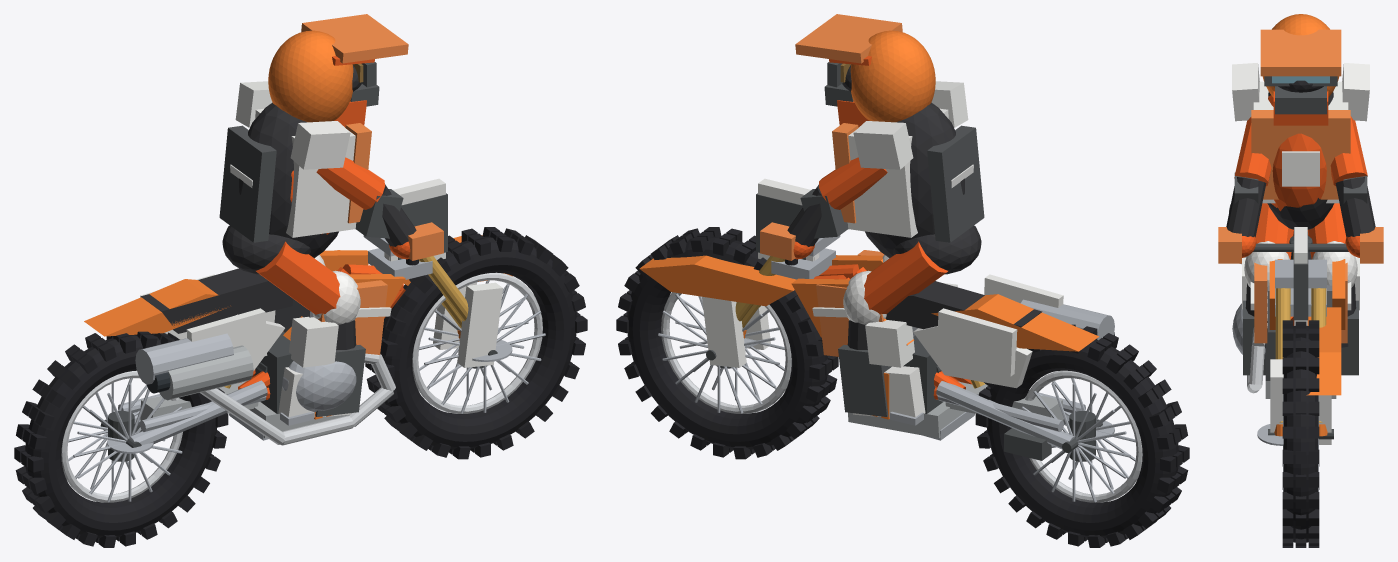
Rendered from dirt_bike_rider_arcade_v4.glb.
3 views of the same model, side by side, from view 1: azimuth 30°, elevation 25°; view 2: azimuth 150°, elevation 25°; view 3: azimuth 270°, elevation 25° (orthographic). The views are drawn at different scales.
Parts seen in each view (by area): view 1: FrontTire, RearTire, HelmetShell, V4_BackProtector, Seat, RiderTorso, V4_ChestProtector, RearFender, RiderLThigh, V4_HelmetPeak, FrontRim, V4_ForkGuard_R (+32 smaller); view 2: RearTire, FrontTire, HelmetShell, FrontFender, V4_BackProtector, RiderTorso, V4_RearNumberPlate_L, V4_ChestProtector, RearFender, RiderRThigh, V4_HelmetPeak, V4_BootShinPlate_-1 (+30 smaller); view 3: V4_HelmetPeak, V4_ChestCenter, FrontTire, RiderJersey, FrontFender, RiderRForearm, RiderLForearm, V4_ShoulderGuard_1, V4_ShoulderGuard_-1, ChestLogoPatch, V4_ChinVent, RiderTorso (+38 smaller).
Boxes of the visible parts, x1,y1,x2,y2 form: FrontTire: (376,236,576,449); RearTire: (25,335,217,538); HelmetShell: (268,30,353,122); V4_BackProtector: (219,125,276,242); Seat: (141,268,292,333); RiderTorso: (239,102,338,258); V4_ChestProtector: (255,108,356,237); RearFender: (84,279,230,336); RiderLThigh: (256,241,340,314); V4_HelmetPeak: (301,14,408,63); FrontRim: (412,272,542,413); V4_ForkGuard_R: (457,282,502,367); RearTire: (986,339,1178,538); FrontTire: (627,236,827,449); HelmetShell: (850,30,935,122); FrontFender: (639,255,796,306); V4_BackProtector: (927,125,984,242); RiderTorso: (865,102,964,258); V4_RearNumberPlate_L: (936,308,1017,376); V4_ChestProtector: (847,108,948,237); RearFender: (931,294,1098,351); RiderRThigh: (864,241,947,314); V4_HelmetPeak: (795,14,902,63); V4_BootShinPlate_-1: (838,345,891,416); V4_HelmetPeak: (1260,29,1341,76); V4_ChestCenter: (1251,110,1350,199); FrontTire: (1283,326,1318,542); RiderJersey: (1268,95,1326,211); FrontFender: (1306,307,1341,395); RiderRForearm: (1335,177,1375,237); RiderLForearm: (1226,177,1266,237); V4_ShoulderGuard_1: (1232,63,1259,121); V4_ShoulderGuard_-1: (1342,63,1369,121); ChestLogoPatch: (1282,151,1319,186); V4_ChinVent: (1275,86,1326,114); RiderTorso: (1268,91,1333,229).
Size of the model in its own units: 2.62 by 2.07 by 0.7.
